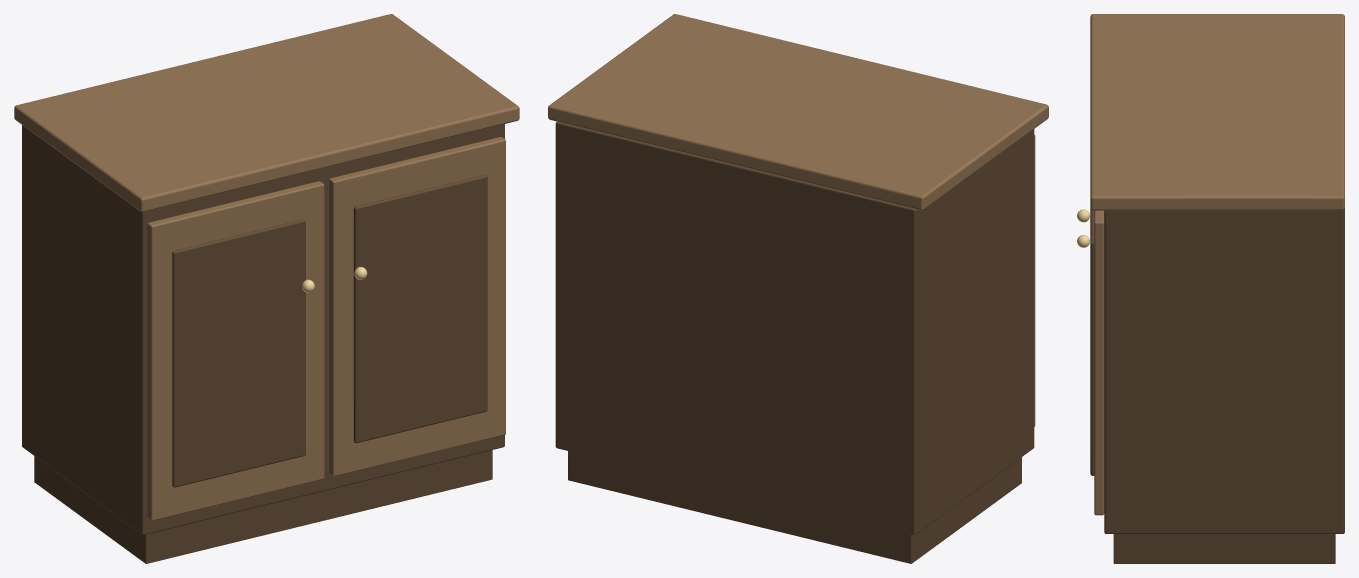
Rendered from cabinet_low.gltf.
The picture shows the model from 3 angles, left to right: view 1: azimuth 30°, elevation 25°; view 2: azimuth 150°, elevation 25°; view 3: azimuth 270°, elevation 25°; orthographic projection.
Parts seen in each view (by area): view 1: Top, Carcass, Panel1, Panel0, Door1, Door0, Plinth; view 2: Carcass, Top, Plinth; view 3: Carcass, Top, Plinth, Door1, Panel1.
Part boxes in pixels (bbox=[...]): Top: bbox=[14, 14, 519, 212]; Carcass: bbox=[22, 124, 504, 534]; Panel1: bbox=[353, 175, 487, 443]; Panel0: bbox=[172, 219, 305, 487]; Door1: bbox=[328, 137, 505, 476]; Door0: bbox=[147, 181, 324, 520]; Plinth: bbox=[34, 450, 492, 563]; Carcass: bbox=[555, 121, 1034, 535]; Top: bbox=[548, 14, 1048, 210]; Plinth: bbox=[568, 451, 1021, 563]; Carcass: bbox=[1104, 208, 1344, 533]; Top: bbox=[1090, 14, 1344, 210]; Plinth: bbox=[1113, 534, 1335, 563]; Door1: bbox=[1094, 210, 1104, 515]; Panel1: bbox=[1090, 208, 1094, 475].
Size of the model in its own units: 0.94 by 0.895 by 0.579.
